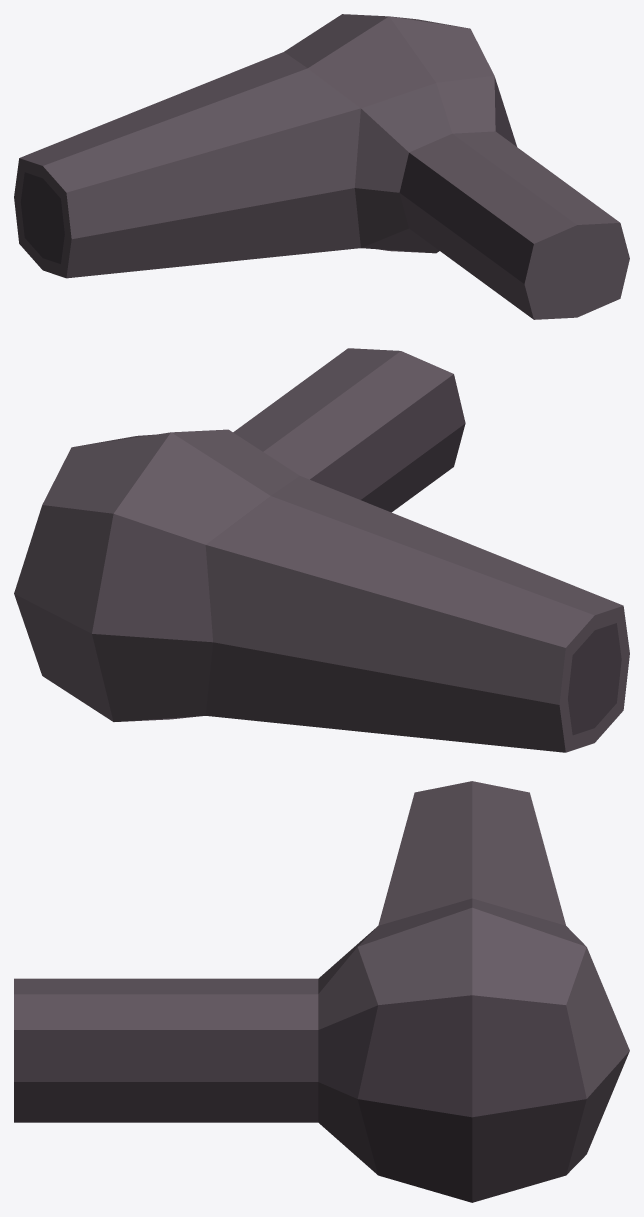
File: Hair Dryer.fbx
3 renders of one model, top to bottom at view 1: azimuth 30°, elevation 25°; view 2: azimuth 150°, elevation 25°; view 3: azimuth 270°, elevation 25°, orthographic. The views are drawn at different scales.
Visible parts, largest first — view 1: Hair Dryer; view 2: Hair Dryer; view 3: Hair Dryer.
Part boxes in pixels (x1,y1,x2,y2): Hair Dryer: (14,14,629,319); Hair Dryer: (14,348,629,752); Hair Dryer: (14,781,629,1202).
Size of the model in its own units: 53.61 by 26.22 by 51.19.
